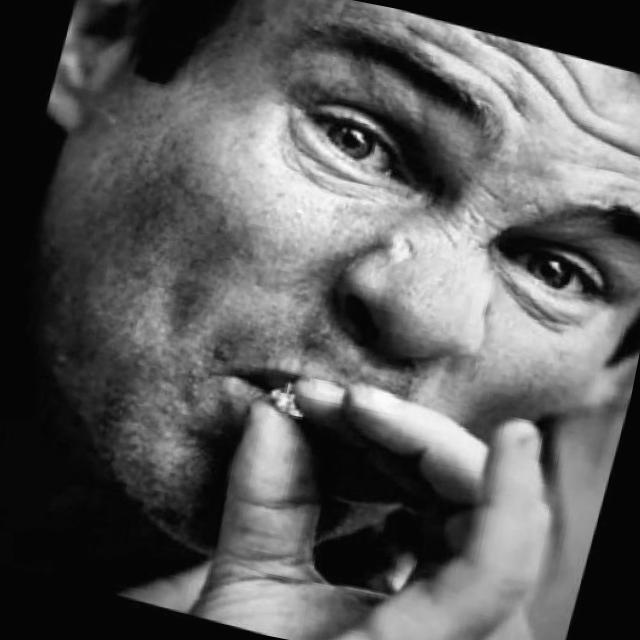cigarette: (254, 378, 316, 428)
